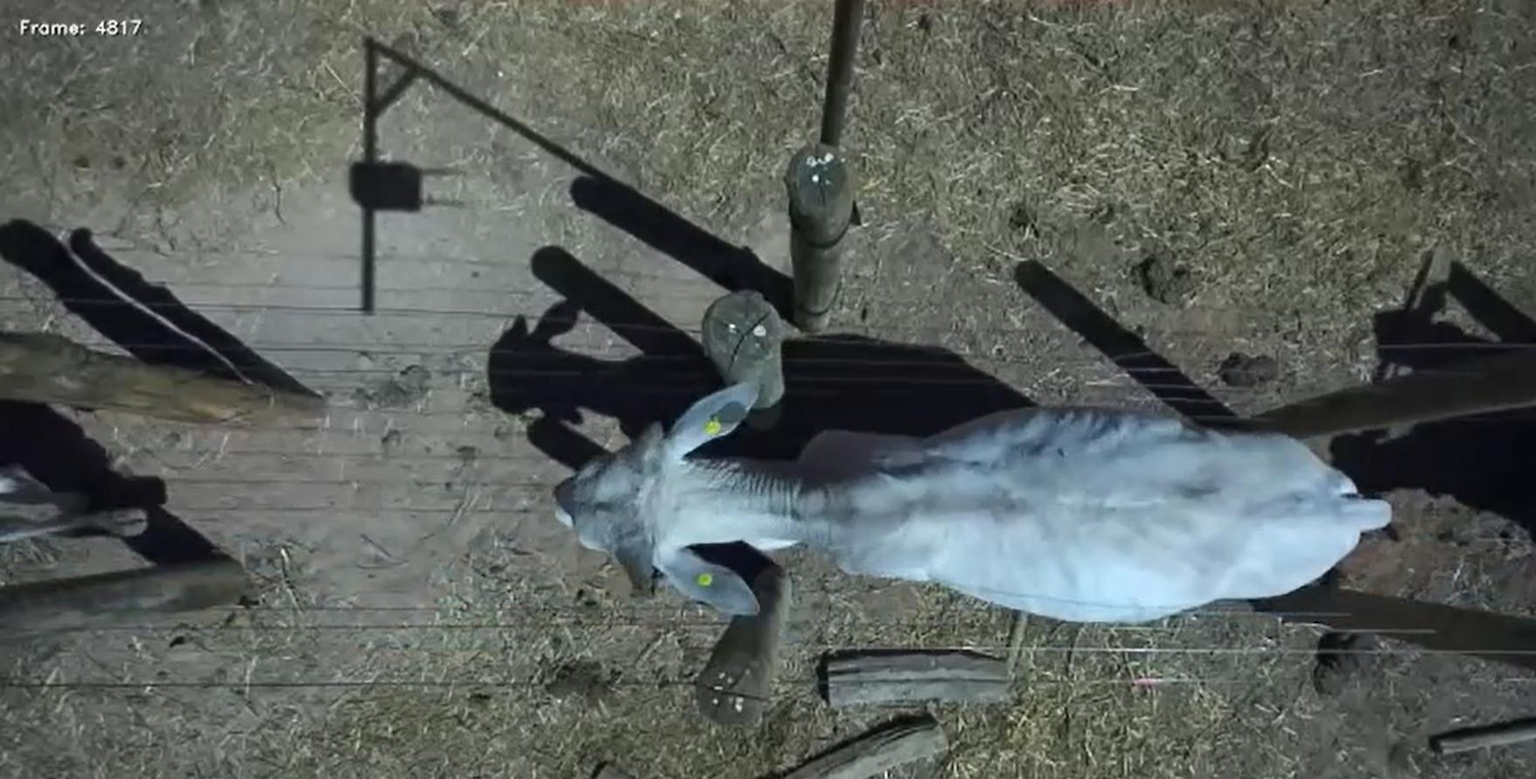cattle: (547, 363, 1410, 631)
